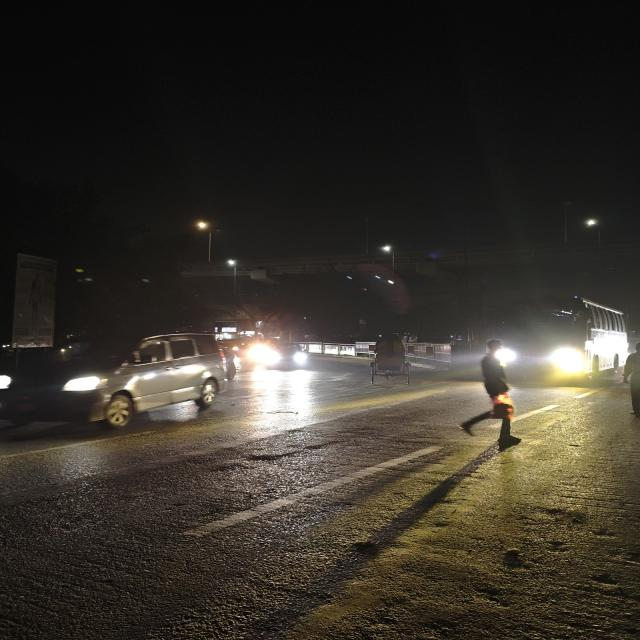bus: (499, 290, 624, 376)
car: (1, 328, 230, 435), (260, 342, 316, 372)
pedestrian: (456, 338, 519, 459), (618, 338, 640, 426)
rickshaw: (362, 332, 415, 385)
